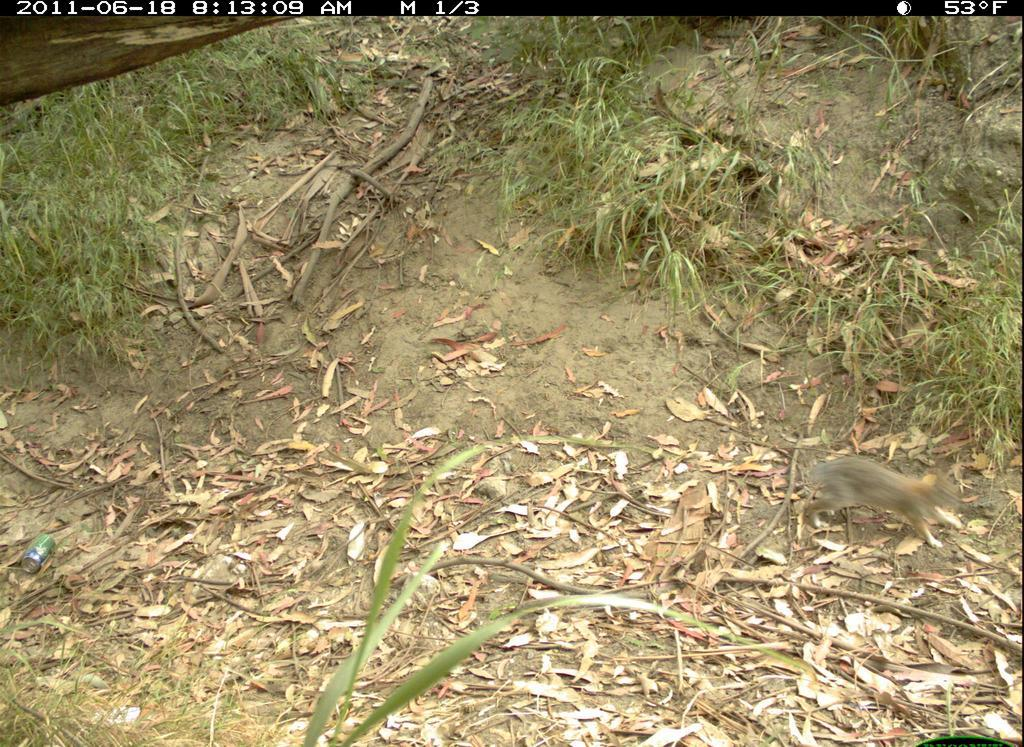rabbit: (792, 445, 971, 565)
